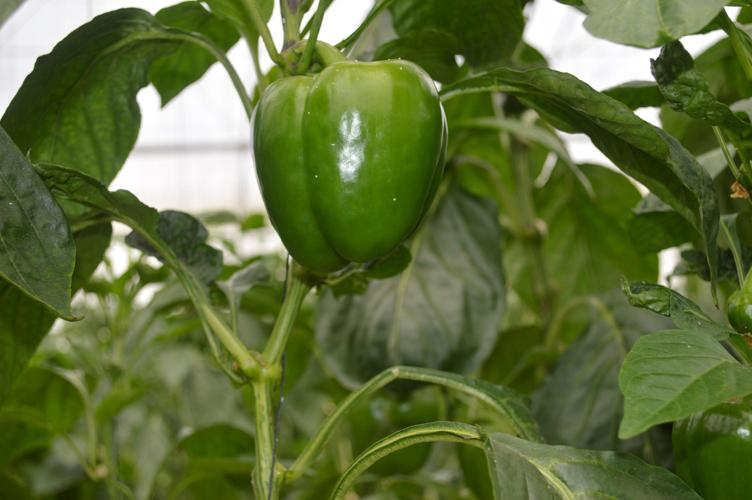BellPepper: (259, 57, 451, 273)
